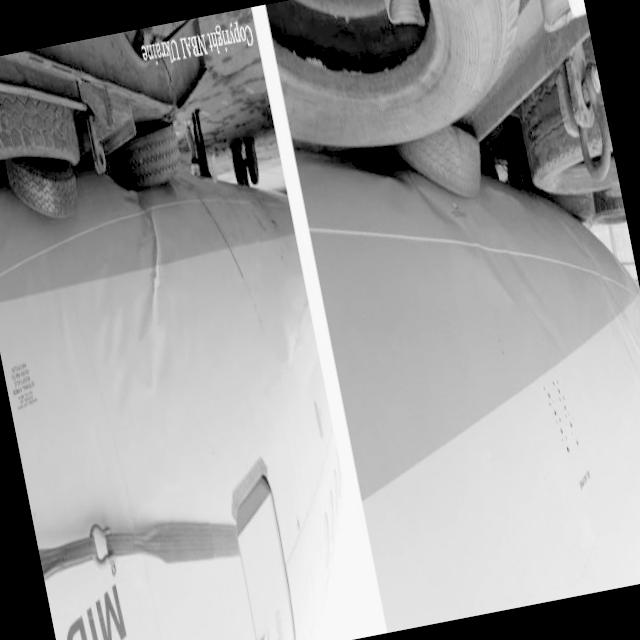dent: (382, 142, 562, 367), (63, 164, 194, 412)
